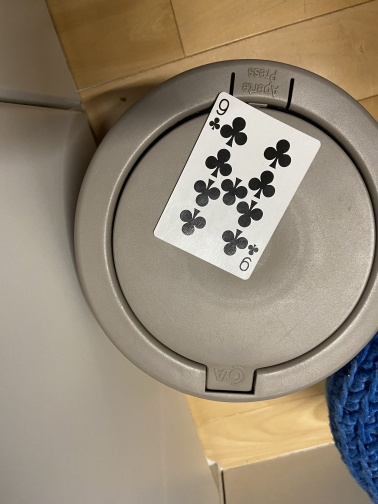nine: (152, 90, 323, 282)
